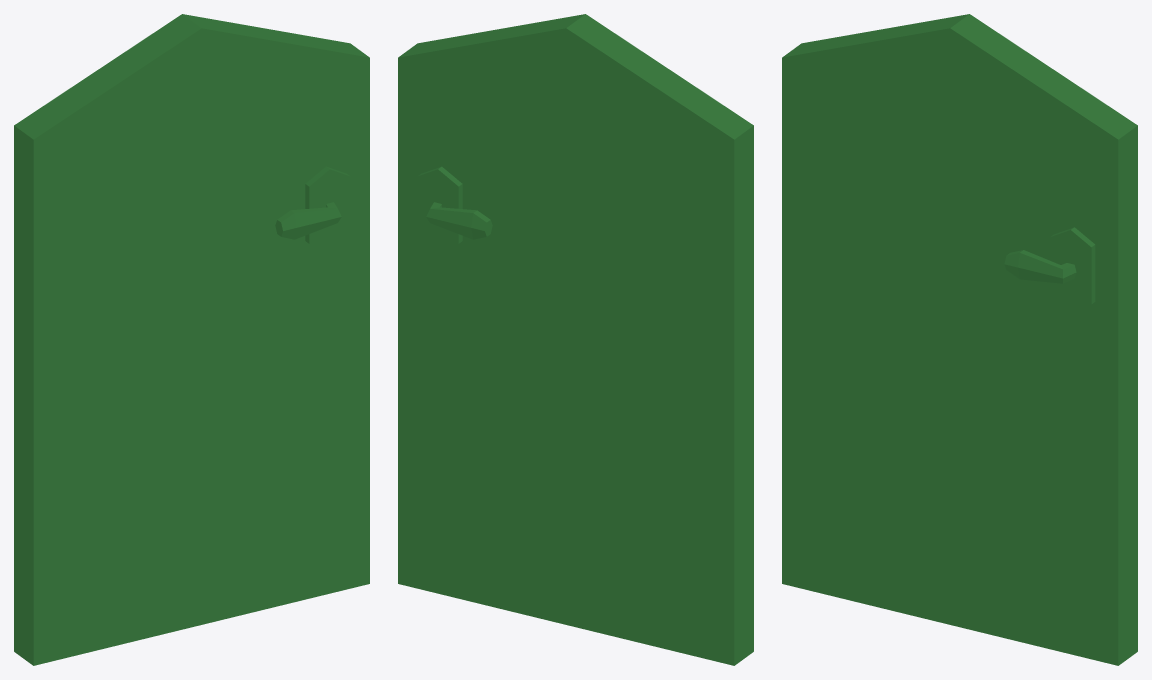
Rendered from fence-stone-gate-small.glb.
3 renders of one model, left to right at view 1: azimuth 30°, elevation 25°; view 2: azimuth 150°, elevation 25°; view 3: azimuth 330°, elevation 25°, orthographic.
Visible parts, largest first — view 1: fence-stone-gate-small; view 2: fence-stone-gate-small; view 3: fence-stone-gate-small.
Boxes of the visible parts, x1,y1,x2,y2 form: fence-stone-gate-small: (14,14,369,665); fence-stone-gate-small: (398,14,753,665); fence-stone-gate-small: (782,14,1137,665).
Bounding box in the file's own units: 1 × 1.7 × 0.2406.
1 material, 1 textured.
